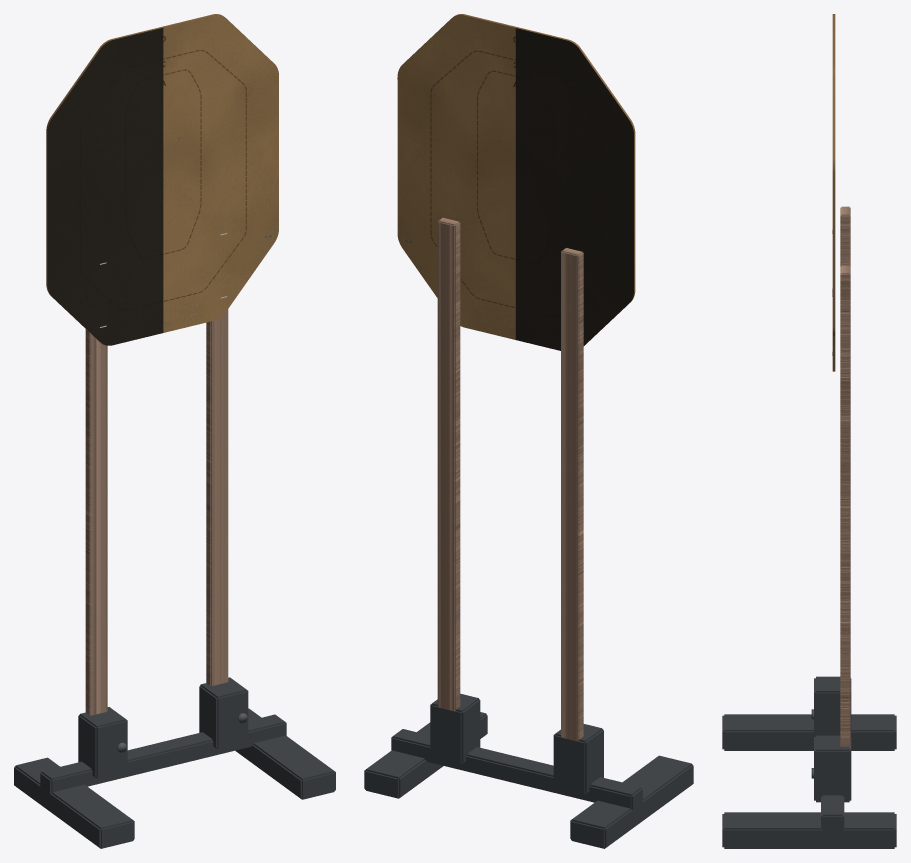
The model's file is obj_paper_hc_half.glb.
3 views of the same model, side by side, from view 1: azimuth 30°, elevation 25°; view 2: azimuth 150°, elevation 25°; view 3: azimuth 270°, elevation 25° (orthographic). The views are drawn at different scales.
Parts seen in each view (by area): view 1: card, paper_hc_half_body; view 2: card, paper_hc_half_body; view 3: paper_hc_half_body, card.
Boxes of the visible parts, x1,y1,x2,y2 form: card: (46, 14, 278, 345); paper_hc_half_body: (14, 309, 335, 848); card: (397, 14, 635, 350); paper_hc_half_body: (364, 218, 693, 848); paper_hc_half_body: (722, 206, 896, 848); card: (832, 14, 835, 371).
Bounding box in the file's own units: 0.47 × 1.43 × 0.3.
Materials: 5 (2 with a texture image).
